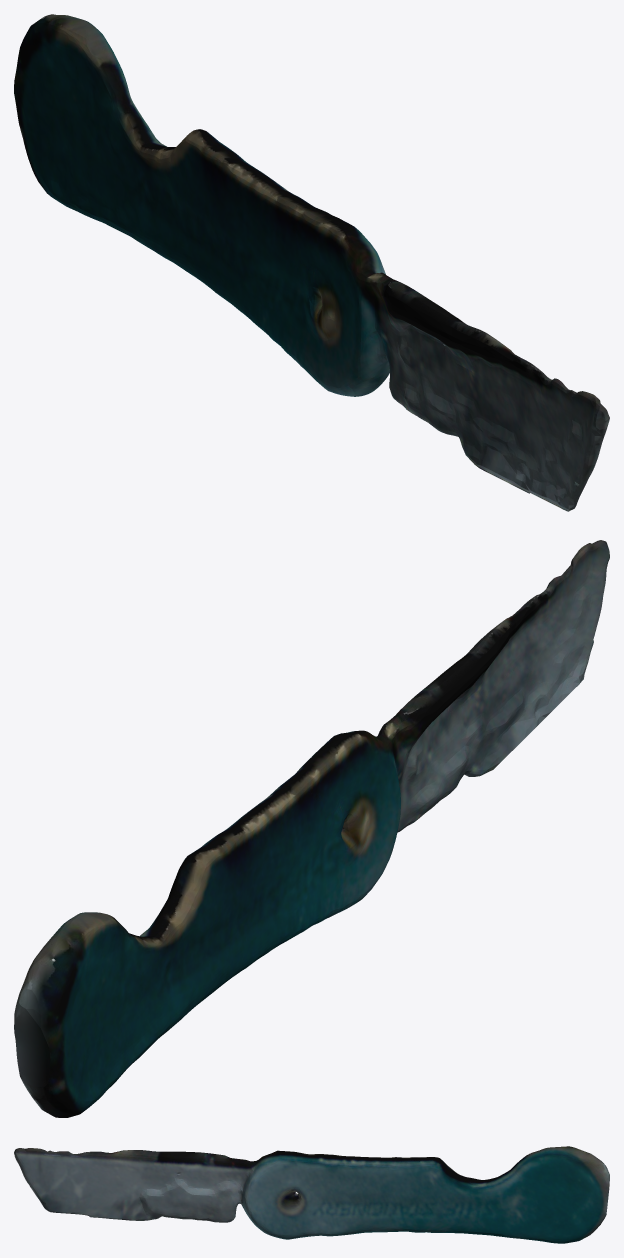
File: scan_align.obj
The picture shows the model from 3 angles, top to bottom: view 1: azimuth 30°, elevation 25°; view 2: azimuth 150°, elevation 25°; view 3: azimuth 270°, elevation 25°; orthographic projection. The views are drawn at different scales.
Bounding box in the file's own units: 0.00488 × 0.021 × 0.1193.
Materials: 1 (1 with a texture image).
